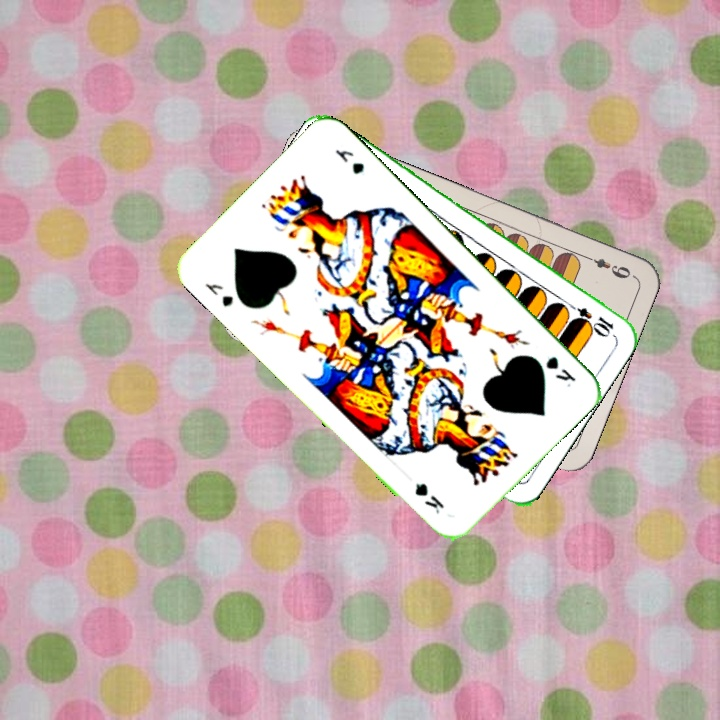E10: (561, 297, 617, 338)
E9: (579, 251, 634, 282)
GK: (541, 352, 579, 390), (200, 279, 237, 310)
